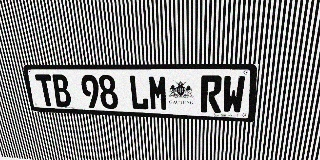8: (98, 75, 119, 109)
9: (80, 75, 101, 108)
B: (51, 74, 72, 107)
L: (128, 75, 149, 110)
M: (148, 75, 168, 111)
R: (200, 75, 222, 113)
T: (35, 74, 56, 107)
W: (222, 75, 246, 114)
